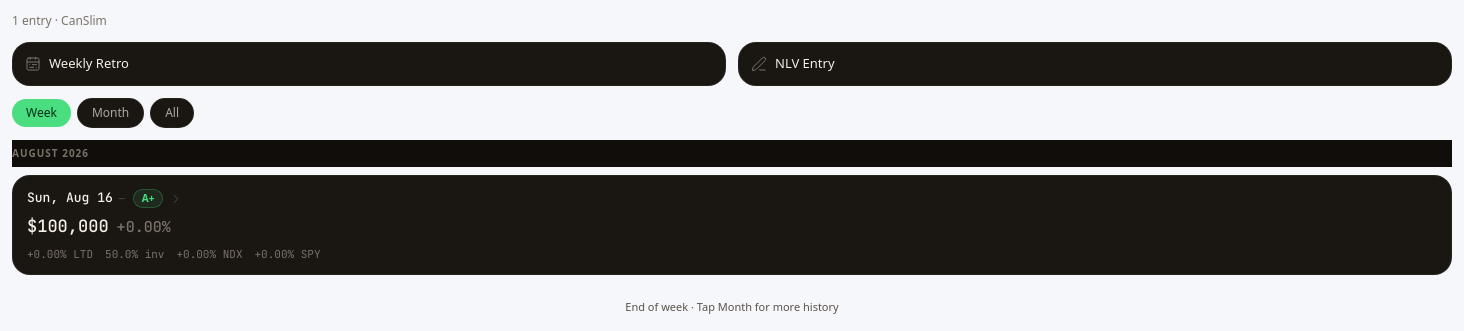
Test: MobileJournalLog — end-of-list footer › All filter hides the footer
Click the radio button labelled "All" at [172, 113], box x1=150 y1=98 x2=194 y2=128
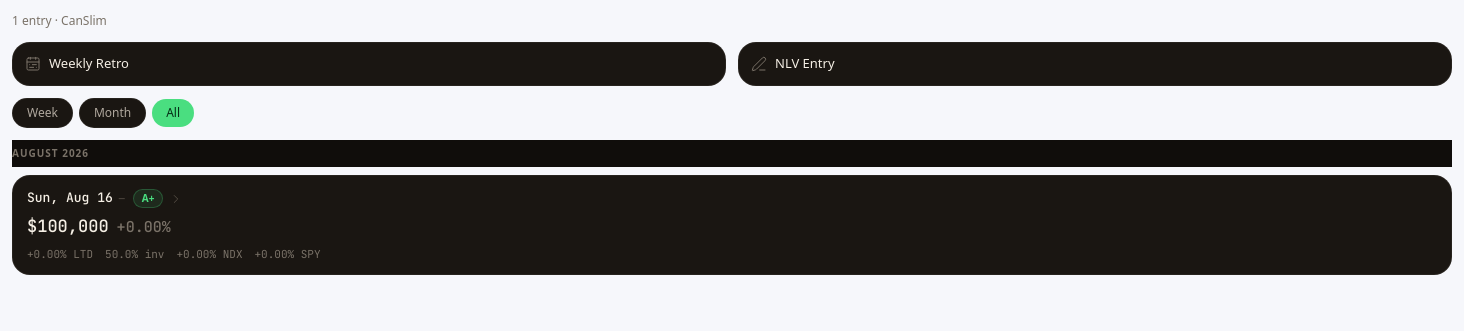
Result: the text with test id "end-of-list-footer" is gone
